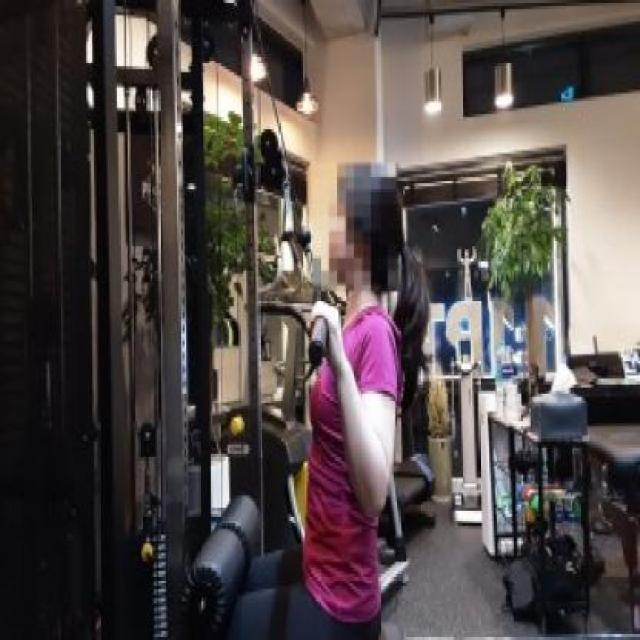Lat Pull Down: (2, 0, 404, 640)
